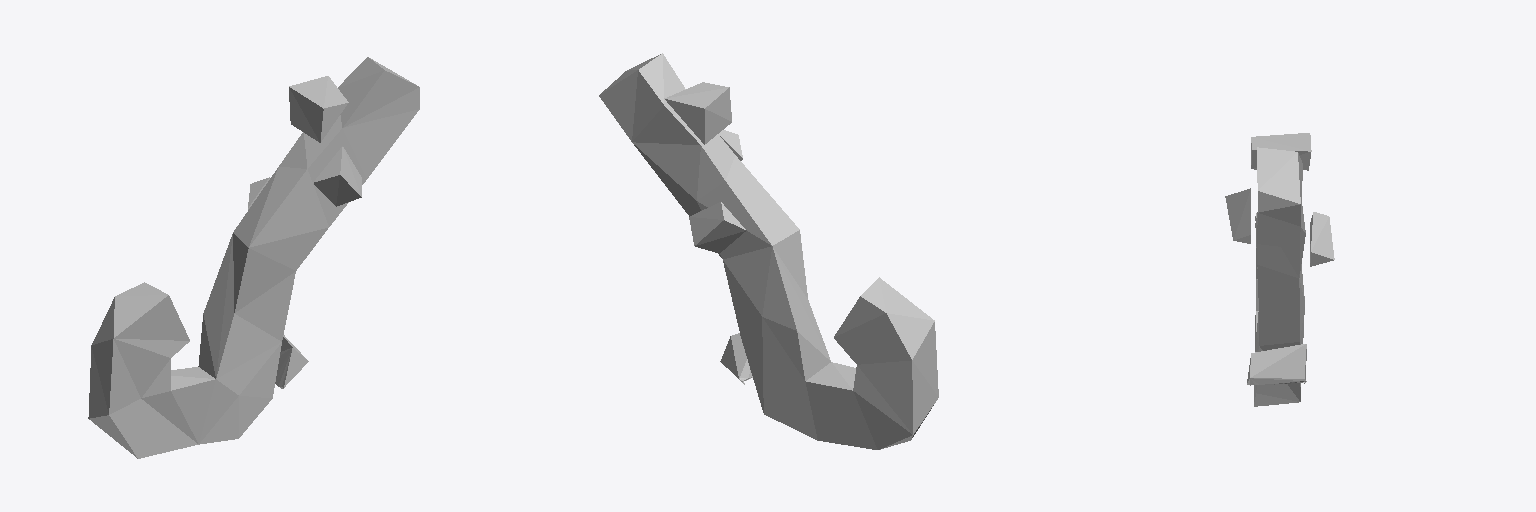
Rendered from 3d_staff.obj.
3 views of the same model, side by side, from view 1: azimuth 30°, elevation 25°; view 2: azimuth 150°, elevation 25°; view 3: azimuth 270°, elevation 25° (orthographic).
Parts seen in each view (by area): view 1: Staff_Curve.012; view 2: Staff_Curve.012; view 3: Staff_Curve.012.
Part boxes in pixels (x1,y1,x2,y2): Staff_Curve.012: (88,57,419,458); Staff_Curve.012: (599,53,938,449); Staff_Curve.012: (1225,133,1334,406).
Bounding box in the file's own units: 0.8248 × 0.8224 × 0.2462.